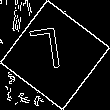L_S: (36, 28, 74, 82)
